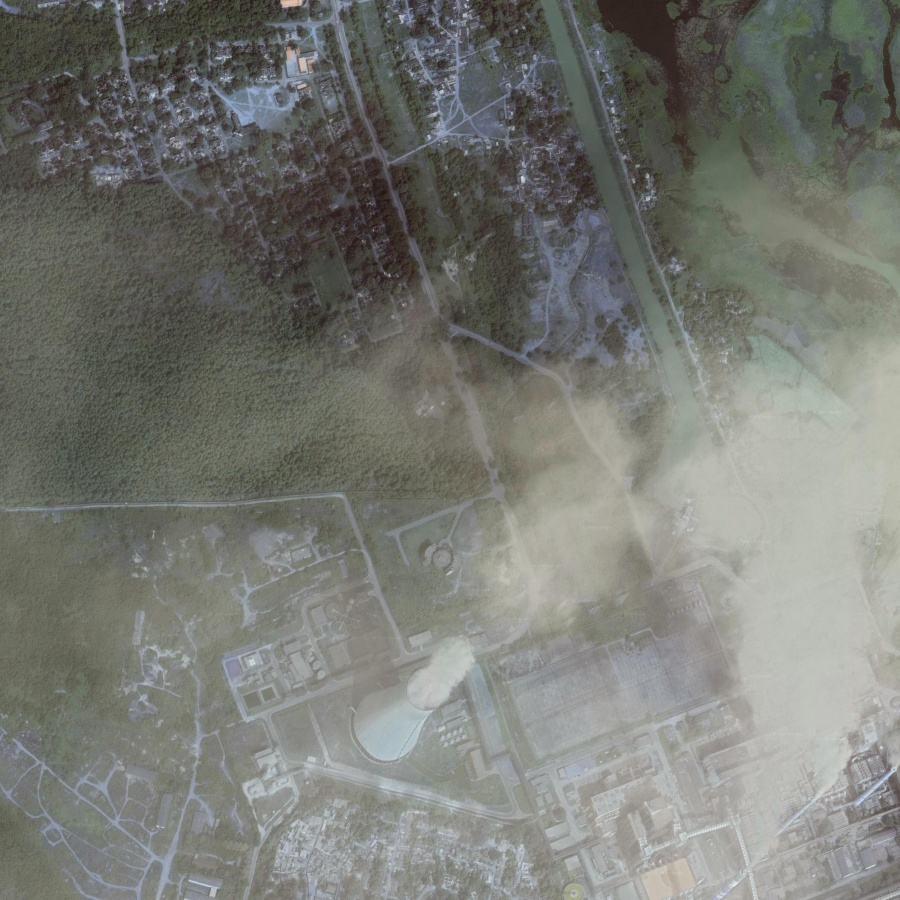PowerPlant: (343, 596, 498, 807)
